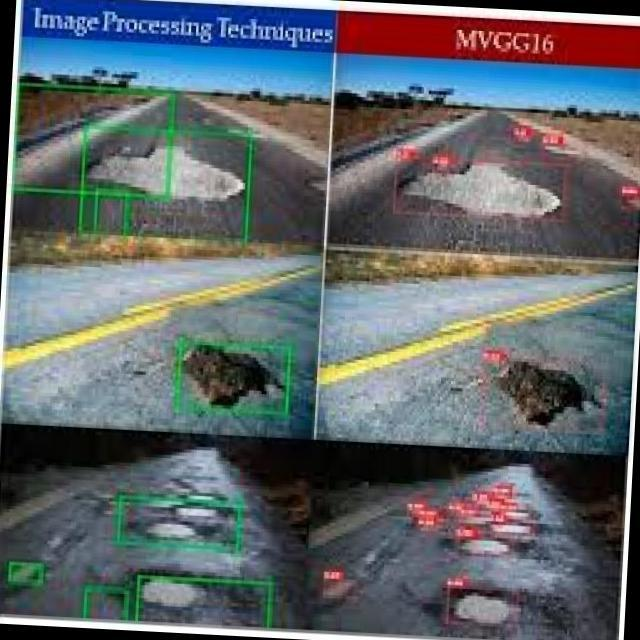Burst: (173, 340, 282, 410), (496, 361, 584, 429), (452, 492, 532, 561), (440, 575, 524, 638)
